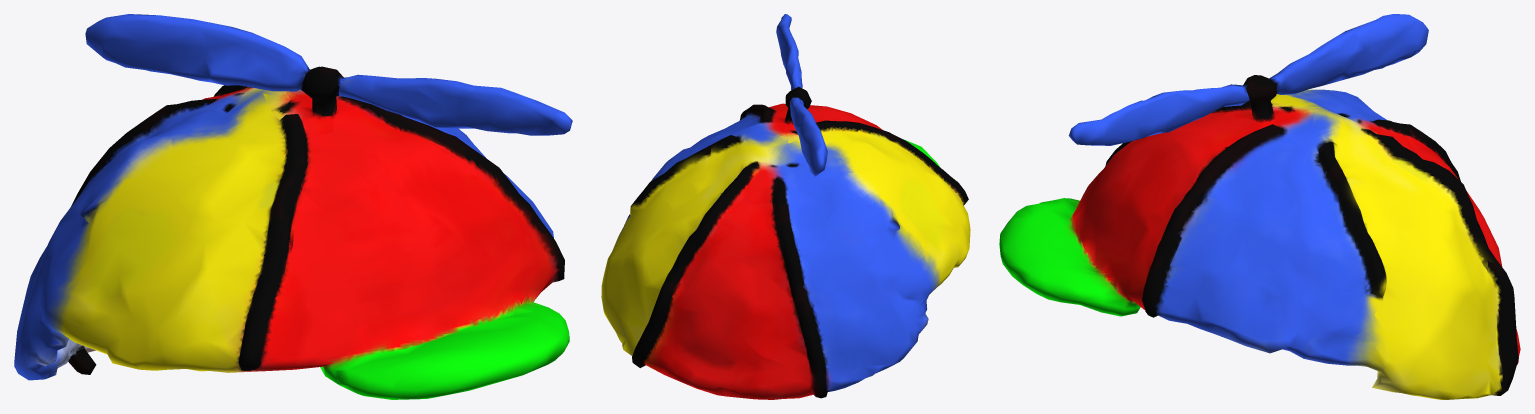
The model's file is beanie.glb.
3 renders of one model, left to right at view 1: azimuth 30°, elevation 25°; view 2: azimuth 150°, elevation 25°; view 3: azimuth 270°, elevation 25°, orthographic. The views are drawn at different scales.
Parts seen in each view (by area): view 1: hat_beanie.001; view 2: hat_beanie.001; view 3: hat_beanie.001.
Part boxes in pixels (bbox=[...]): hat_beanie.001: bbox=[14, 14, 572, 399]; hat_beanie.001: bbox=[601, 14, 970, 399]; hat_beanie.001: bbox=[999, 14, 1520, 399].
Size of the model in its own units: 0.3443 by 0.2642 by 0.404.
1 material, 1 textured.
